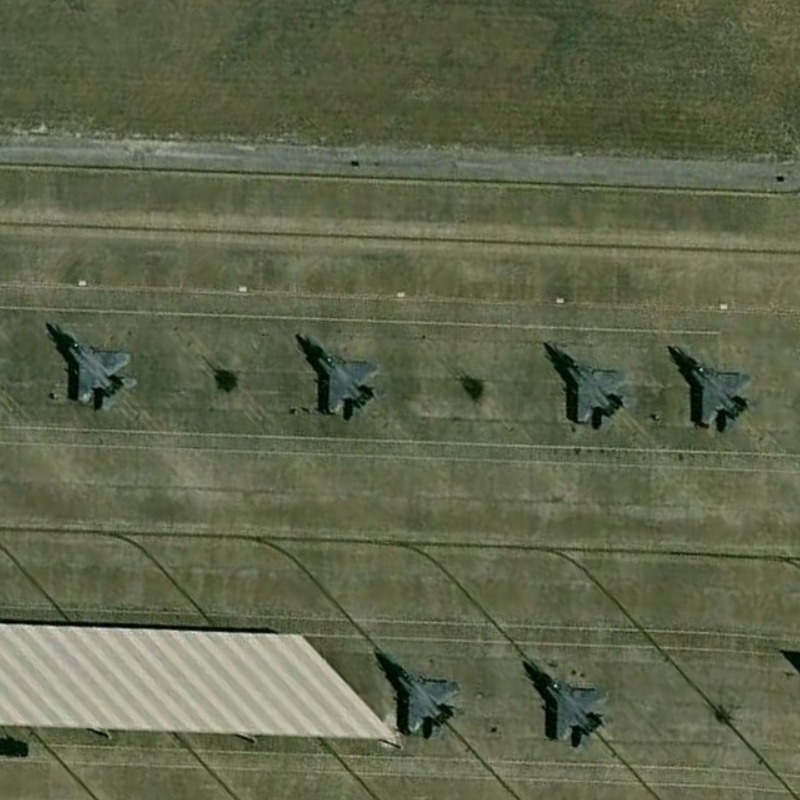A13: (370, 645, 470, 746), (544, 337, 643, 439), (47, 315, 145, 416), (670, 339, 765, 439), (522, 652, 616, 751), (299, 328, 389, 429)
